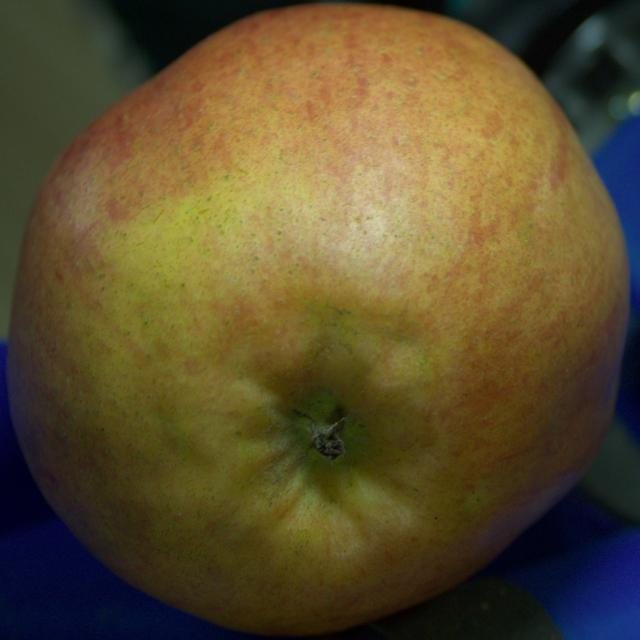apple: (7, 4, 628, 634)
